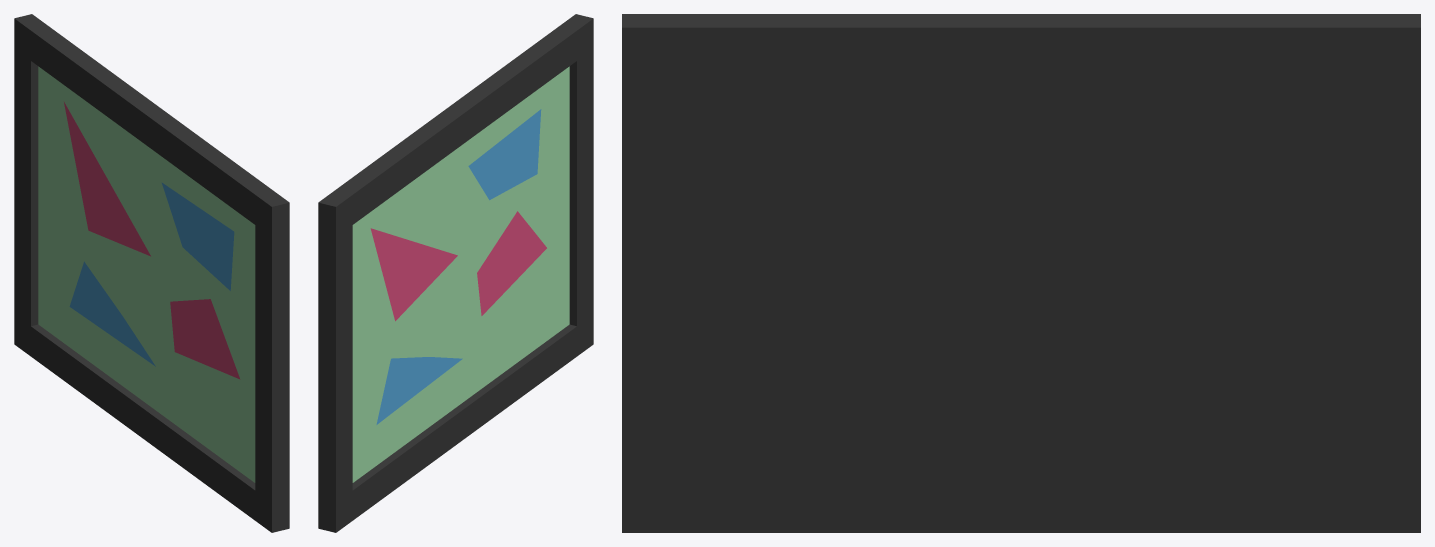
File: Painting.fbx
The picture shows the model from 3 angles, left to right: view 1: azimuth 30°, elevation 25°; view 2: azimuth 150°, elevation 25°; view 3: azimuth 270°, elevation 25°; orthographic projection. The views are drawn at different scales.
Visible parts, largest first — view 1: Painting; view 2: Painting; view 3: Painting.
Boxes of the visible parts, x1,y1,x2,y2 form: Painting: (14,14,289,532); Painting: (318,14,593,532); Painting: (622,14,1420,532).
Size of the model in its own units: 16 by 279 by 400.
